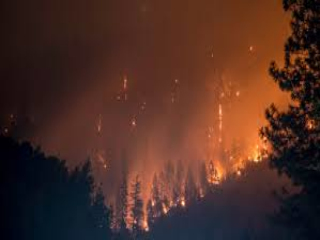fire: (208, 96, 290, 190), (107, 151, 213, 222)
